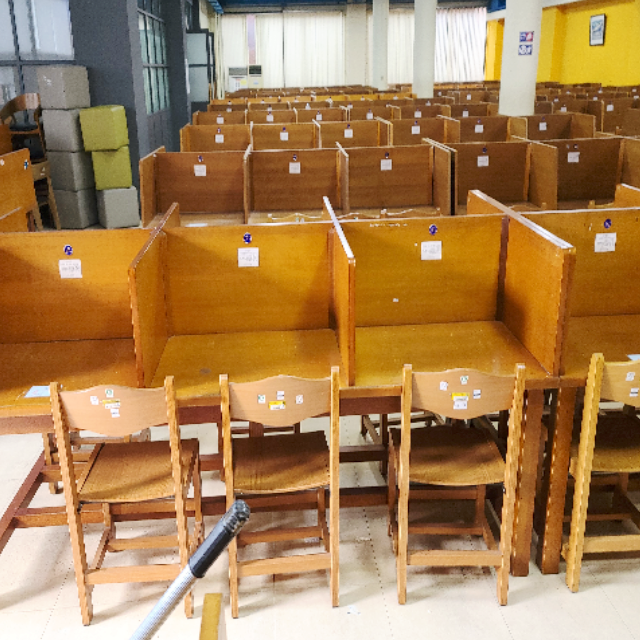empty: (348, 209, 555, 483), (138, 224, 345, 475), (1, 227, 133, 473)
